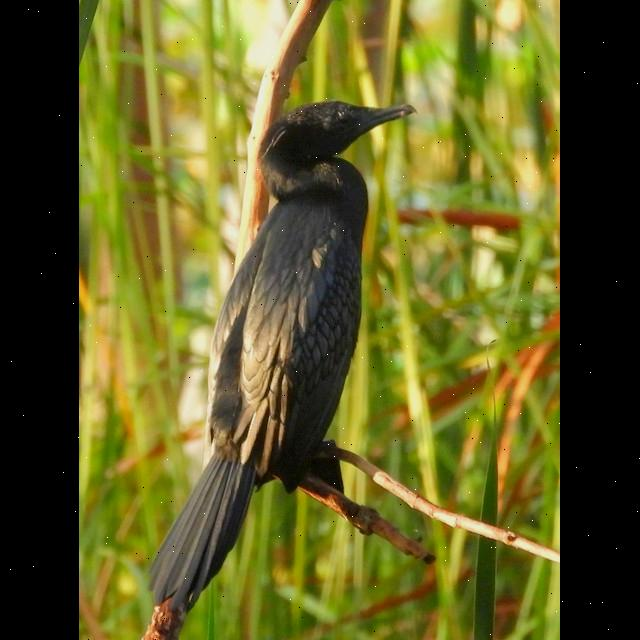cormorant: (143, 81, 419, 615)
